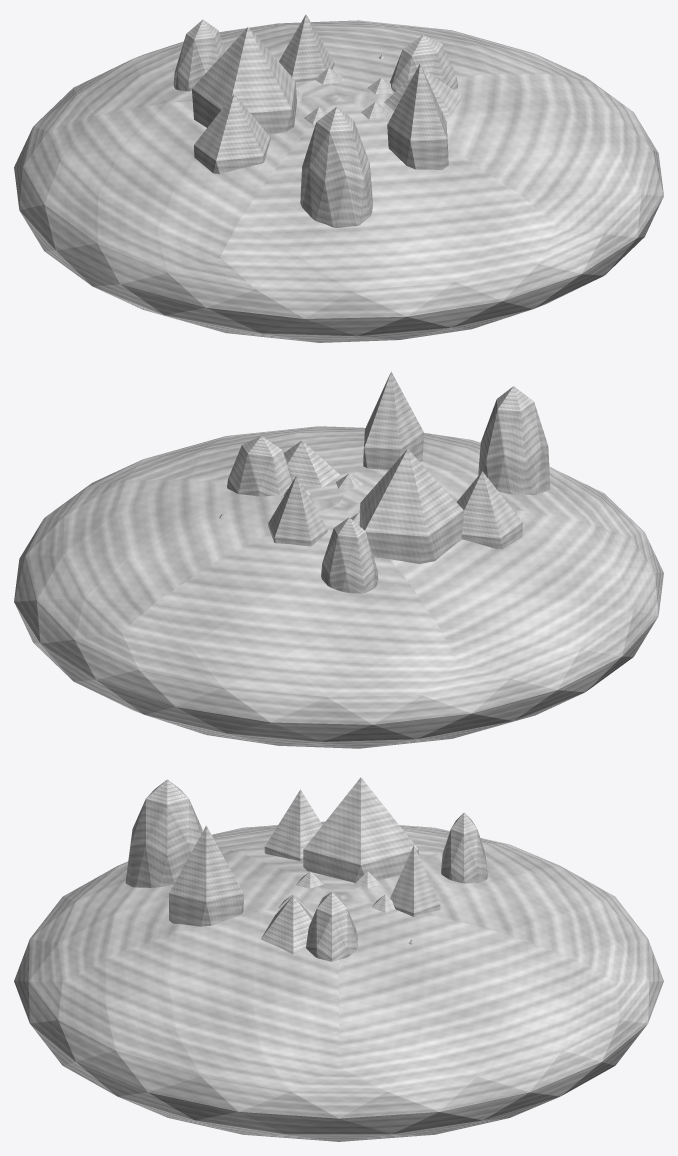
The model's file is copper_ore_node_variant_a.glb.
3 views of the same model, one above another, from view 1: azimuth 30°, elevation 25°; view 2: azimuth 150°, elevation 25°; view 3: azimuth 270°, elevation 25° (orthographic).
Visible parts, largest first — view 1: Resource node bedrock, Exposed ore formation.007, Exposed ore formation.005, Exposed ore formation.008, Exposed ore formation.006, Exposed ore formation.004, Exposed ore formation.001, Exposed ore formation.003, Exposed ore formation.009; view 2: Resource node bedrock, Exposed ore formation.005, Exposed ore formation.007, Exposed ore formation.008, Exposed ore formation.006, Exposed ore formation.004, Exposed ore formation.001, Exposed ore formation.003, Exposed ore formation.009; view 3: Resource node bedrock, Exposed ore formation.005, Exposed ore formation.007, Exposed ore formation.008, Exposed ore formation.001, Exposed ore formation.004, Exposed ore formation.006, Exposed ore formation.003, Exposed ore formation.009.
Boxes of the visible parts, x1=… form: Resource node bedrock: x1=14, y1=20, x2=663, y2=342; Exposed ore formation.007: x1=300, y1=106, x2=372, y2=227; Exposed ore formation.005: x1=192, y1=27, x2=296, y2=134; Exposed ore formation.008: x1=387, y1=63, x2=448, y2=169; Exposed ore formation.006: x1=194, y1=94, x2=270, y2=173; Exposed ore formation.004: x1=173, y1=19, x2=225, y2=91; Exposed ore formation.001: x1=389, y1=35, x2=457, y2=91; Exposed ore formation.003: x1=279, y1=14, x2=334, y2=82; Exposed ore formation.009: x1=384, y1=69, x2=463, y2=115; Resource node bedrock: x1=14, y1=426, x2=663, y2=748; Exposed ore formation.005: x1=359, y1=449, x2=463, y2=563; Exposed ore formation.007: x1=478, y1=386, x2=550, y2=495; Exposed ore formation.008: x1=363, y1=371, x2=423, y2=470; Exposed ore formation.006: x1=456, y1=471, x2=522, y2=549; Exposed ore formation.004: x1=321, y1=517, x2=378, y2=593; Exposed ore formation.001: x1=227, y1=436, x2=293, y2=496; Exposed ore formation.003: x1=268, y1=475, x2=327, y2=546; Exposed ore formation.009: x1=283, y1=440, x2=340, y2=487; Resource node bedrock: x1=14, y1=821, x2=663, y2=1141; Exposed ore formation.005: x1=303, y1=777, x2=418, y2=882; Exposed ore formation.007: x1=125, y1=779, x2=202, y2=887; Exposed ore formation.008: x1=169, y1=825, x2=243, y2=926; Exposed ore formation.001: x1=306, y1=892, x2=357, y2=961; Exposed ore formation.004: x1=441, y1=812, x2=487, y2=883; Exposed ore formation.006: x1=264, y1=789, x2=322, y2=860; Exposed ore formation.003: x1=390, y1=845, x2=440, y2=916; Exposed ore formation.009: x1=261, y1=895, x2=312, y2=954.
Size of what is drawn, in the model's own units: 6 by 2.54 by 6.
2 materials, 2 textured.
